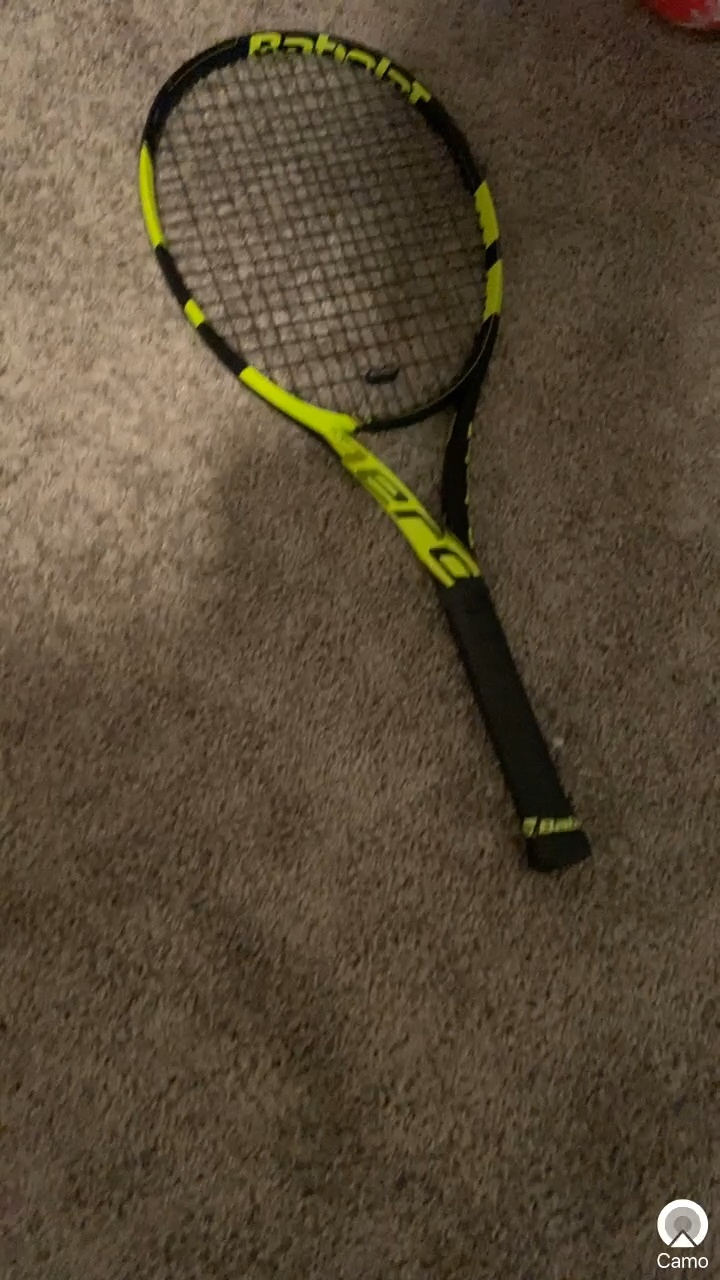Tennis_Racquet: (106, 22, 641, 903)
